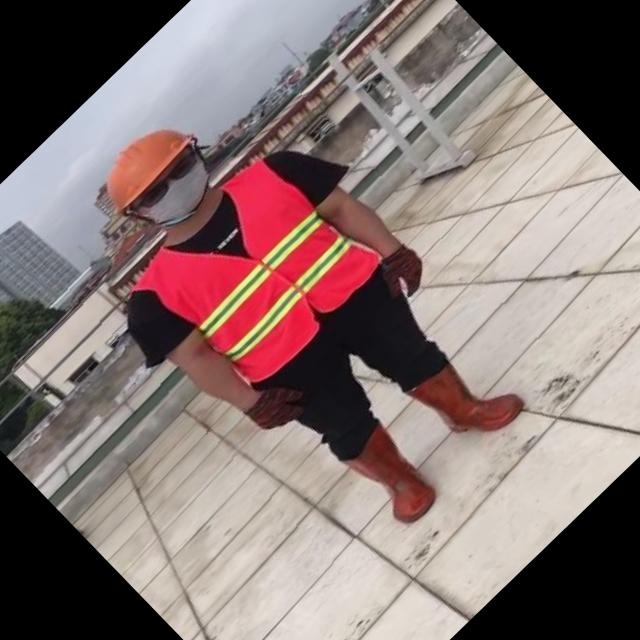hard_hat: (21, 28, 578, 591), (84, 106, 202, 222)
safety_vest: (130, 148, 384, 401)
work_boots: (406, 336, 528, 460), (332, 419, 450, 537)
